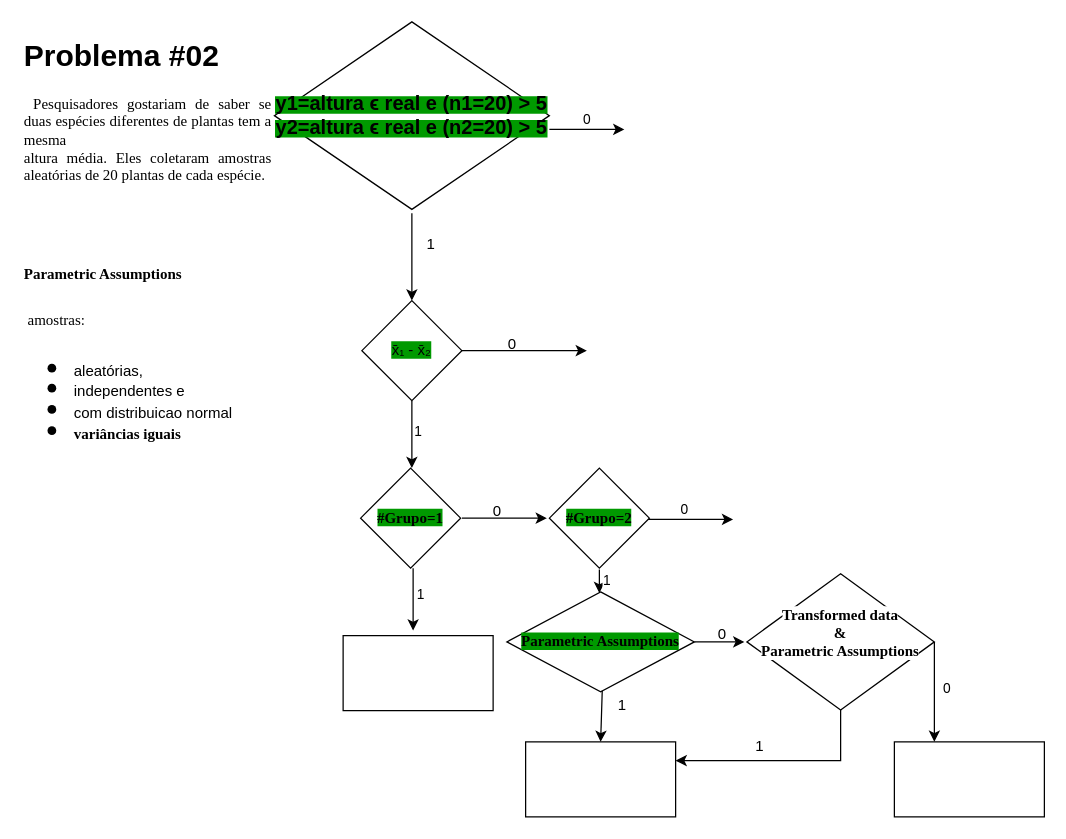
The diagram is 1066 pixels wide and 839 high, and some of its shapes have lost their labels. The shapes that lost their labels are listed below. From the top down, each one's box as (x1, y1, x2, y2) in pixels, then its label:
(342, 634, 493, 711): One Sample t-teste
(524, 741, 676, 817): two Sample t-teste
(893, 741, 1044, 817): Mann-Whitney U Wilcoxon test
